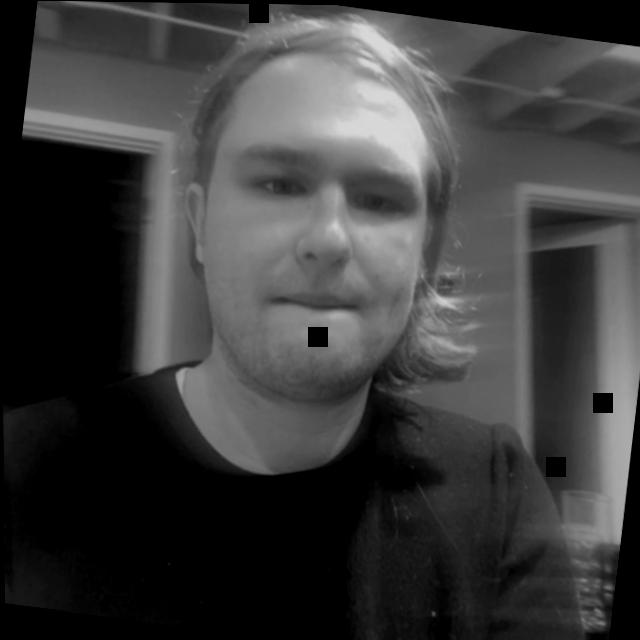NO-Mask: (137, 5, 478, 494)
